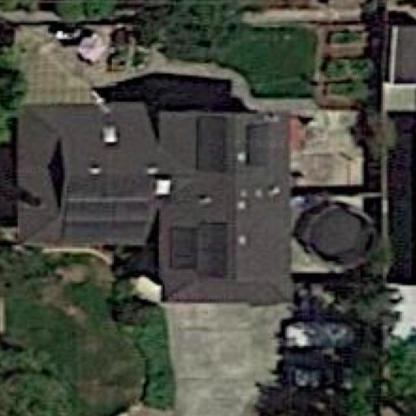solar_panel: (66, 167, 165, 250), (168, 220, 234, 287), (184, 114, 240, 181)
